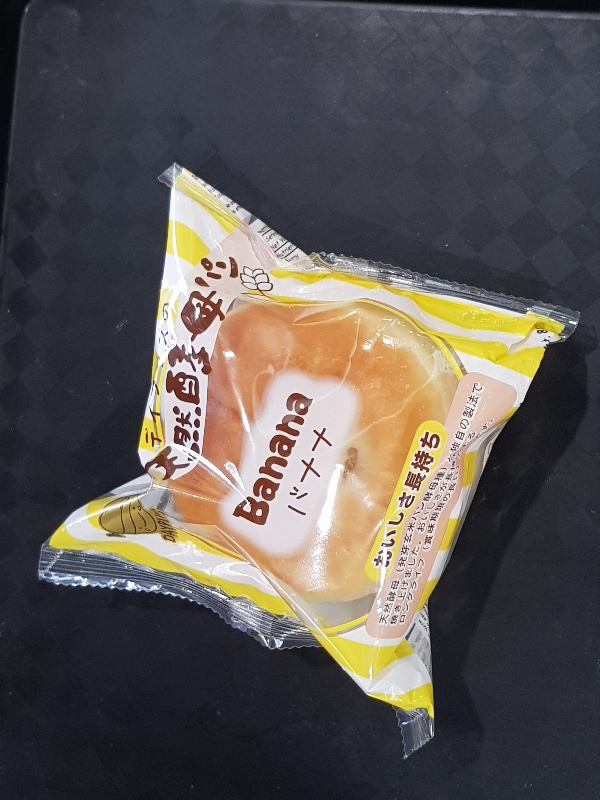Dayplus Banana: (36, 160, 581, 753)
